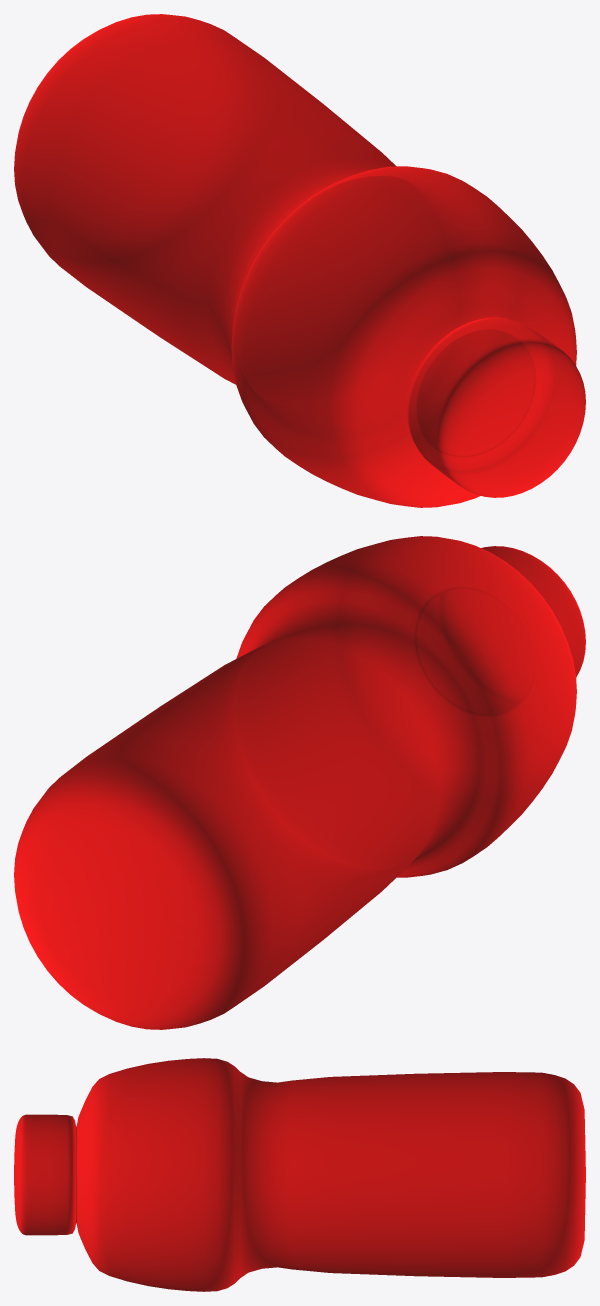
File: model_scale.obj
The picture shows the model from 3 angles, top to bottom: view 1: azimuth 30°, elevation 25°; view 2: azimuth 150°, elevation 25°; view 3: azimuth 270°, elevation 25°; orthographic projection. The views are drawn at different scales.
Parts seen in each view (by area): view 1: mesh1_mesh1-geometry; view 2: mesh1_mesh1-geometry; view 3: mesh1_mesh1-geometry.
Boxes of the visible parts, x1,y1,x2,y2 form: mesh1_mesh1-geometry: (14, 14, 585, 507); mesh1_mesh1-geometry: (14, 536, 585, 1029); mesh1_mesh1-geometry: (14, 1058, 585, 1291).
Bounding box in the file's own units: 0.0991 × 0.0991 × 0.2422.
